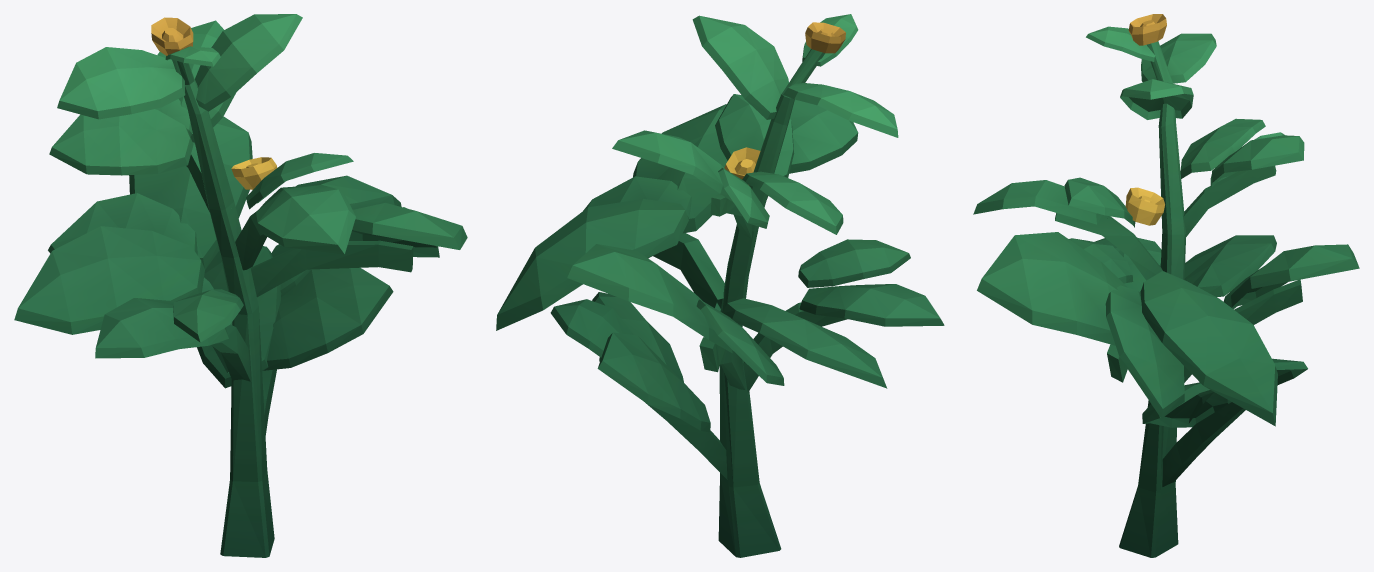
File: crop_potato_stage2.glb
3 views of the same model, side by side, from view 1: azimuth 30°, elevation 25°; view 2: azimuth 150°, elevation 25°; view 3: azimuth 270°, elevation 25° (orthographic). The views are drawn at different scales.
Visible parts, largest first — view 1: crop_potato_stage2; view 2: crop_potato_stage2; view 3: crop_potato_stage2.
Part boxes in pixels (left/top/right/bottom): crop_potato_stage2: left=14, top=14, right=467, bottom=557; crop_potato_stage2: left=496, top=14, right=944, bottom=557; crop_potato_stage2: left=973, top=14, right=1359, bottom=557.
Bounding box in the file's own units: 0.2536 × 0.34 × 0.241.
1 material, 1 textured.
